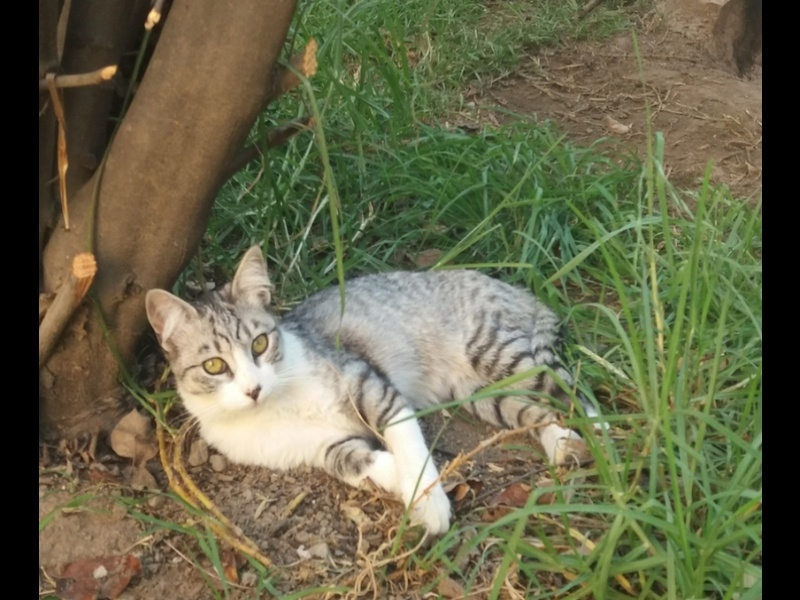cat: (140, 243, 611, 538)
